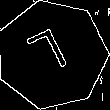L_SE: (27, 26, 78, 84)
